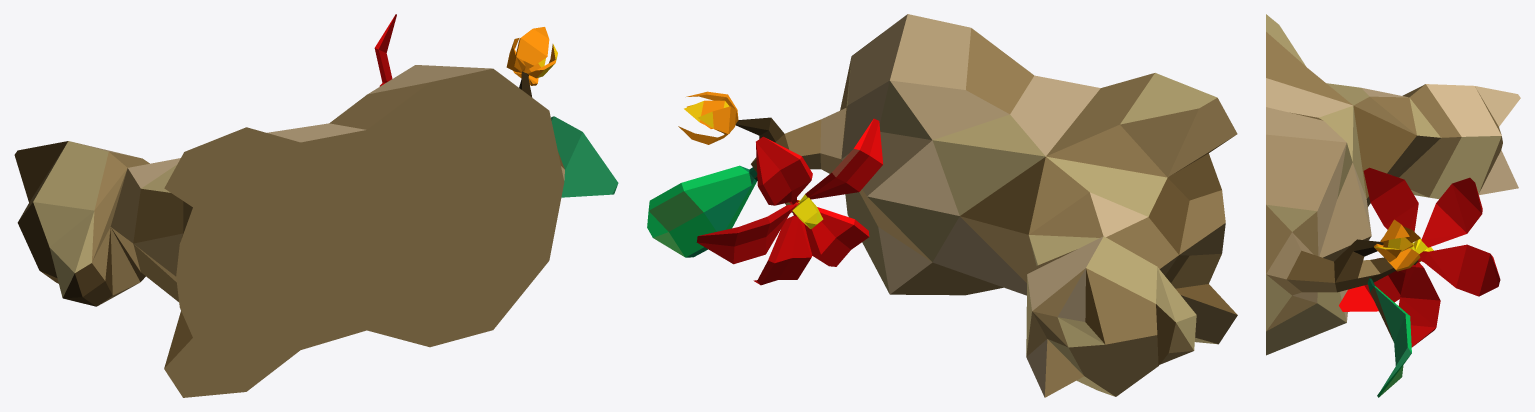
File: desert_cat.fbx
3 renders of one model, left to right at view 1: azimuth 30°, elevation 25°; view 2: azimuth 150°, elevation 25°; view 3: azimuth 270°, elevation 25°, orthographic. The views are drawn at different scales.
Parts seen in each view (by area): view 1: winter_cat.001; view 2: winter_cat.001; view 3: winter_cat.001.
Boxes of the visible parts, left/top/right/bottom form: winter_cat.001: left=14, top=14, right=618, bottom=397; winter_cat.001: left=647, top=14, right=1237, bottom=397; winter_cat.001: left=1266, top=14, right=1520, bottom=397.
Bounding box in the file's own units: 394 × 180 × 186.
